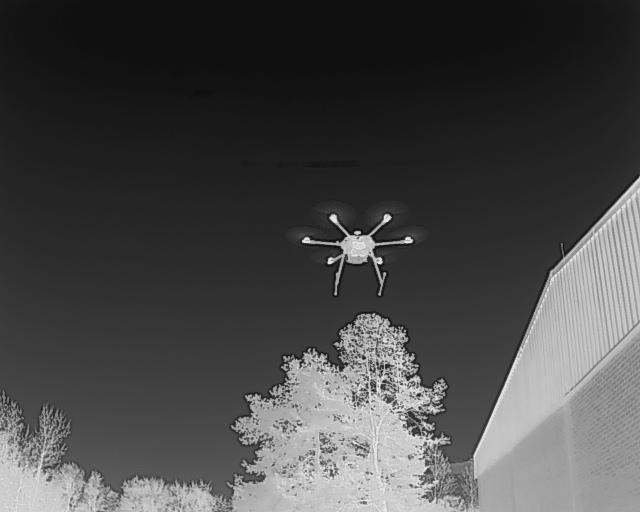drone: (297, 202, 420, 303)
